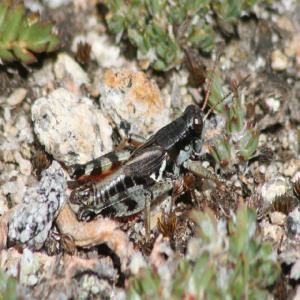locust: (64, 65, 243, 228)
